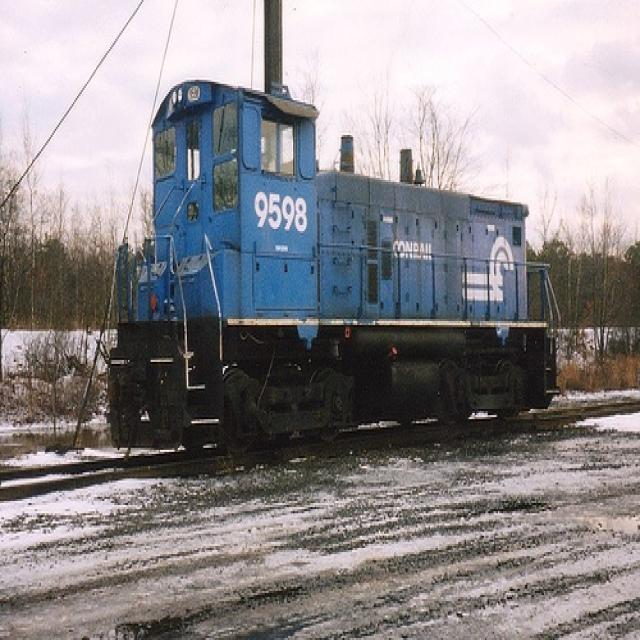train: (107, 72, 571, 458)
